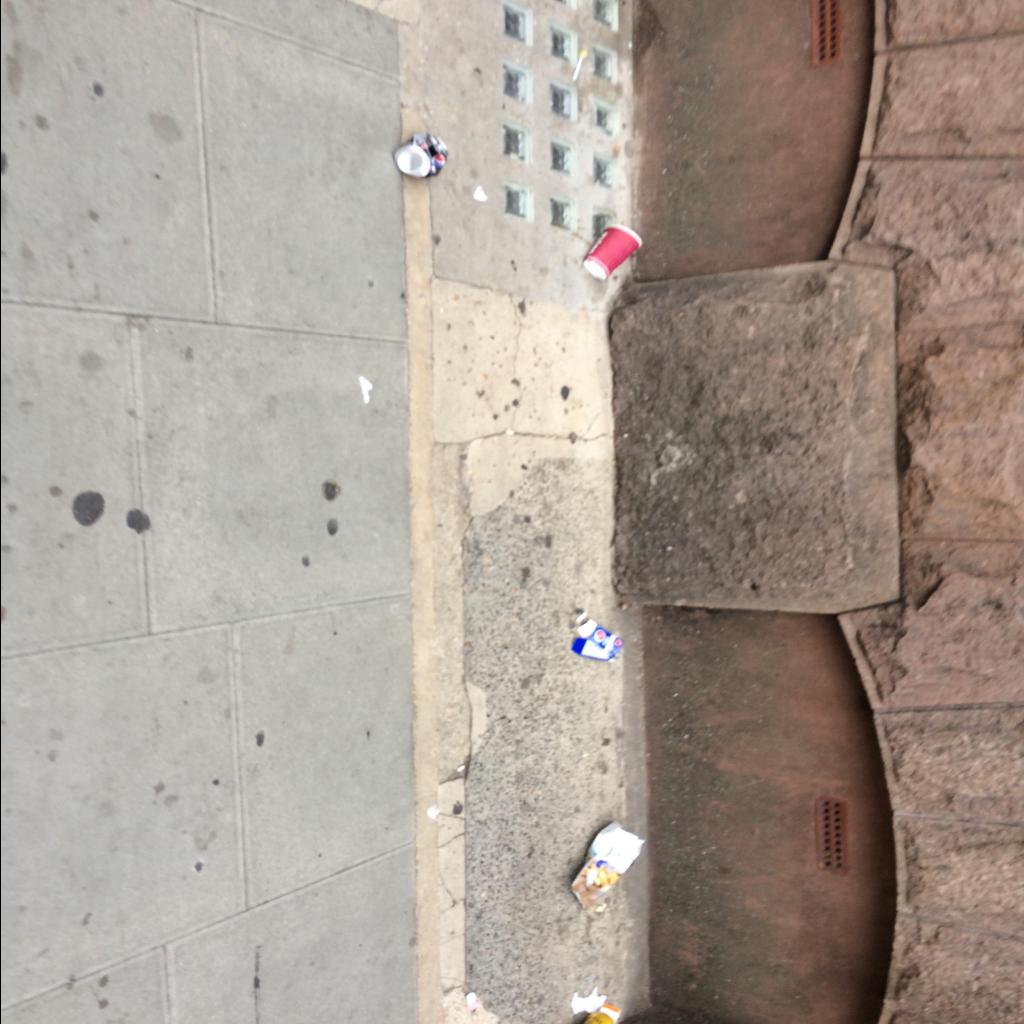Crisp packet: (569, 821, 645, 908)
Drink can: (394, 133, 448, 178)
Paper cup: (583, 226, 641, 280)
Unlabeled litter: (570, 619, 624, 661), (570, 987, 606, 1014), (581, 1002, 622, 1023)
